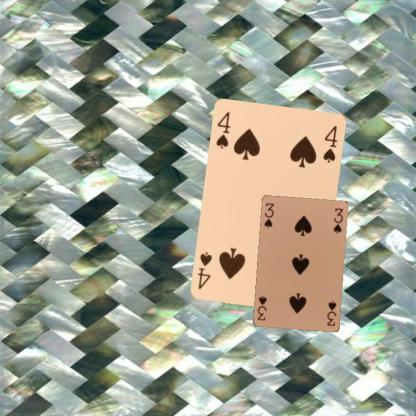3s: (324, 299, 338, 327), (262, 201, 275, 230)
4s: (213, 109, 232, 150)
